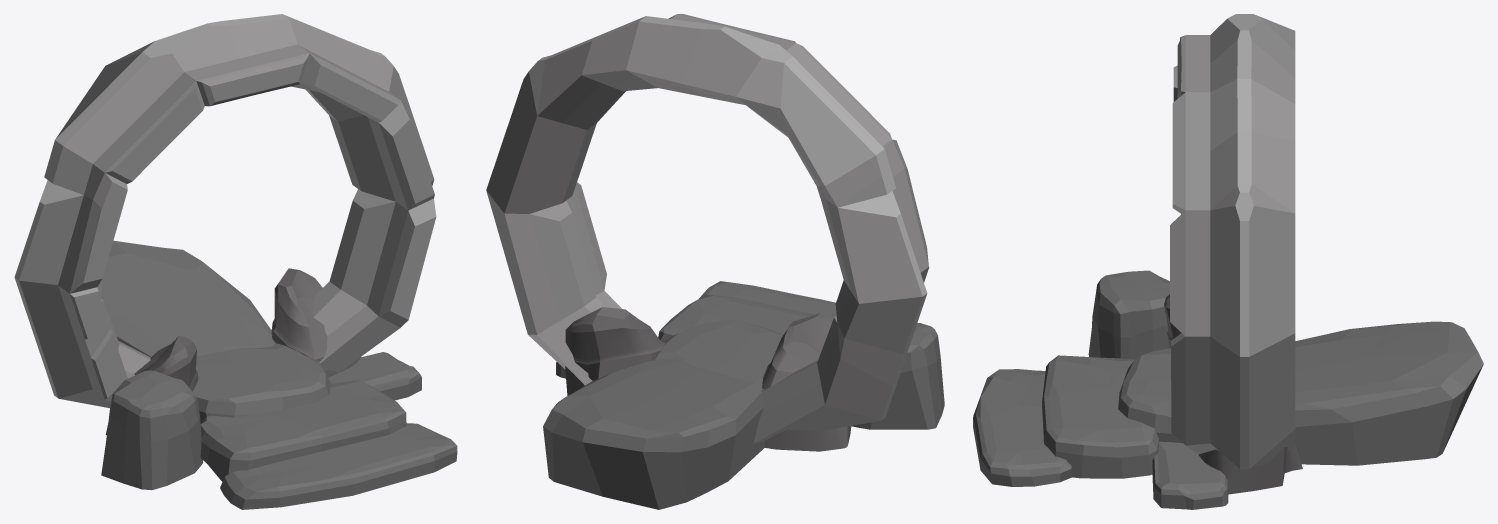
File: teleport_Gate_01.fbx
3 views of the same model, side by side, from view 1: azimuth 30°, elevation 25°; view 2: azimuth 150°, elevation 25°; view 3: azimuth 270°, elevation 25° (orthographic). The views are drawn at different scales.
Visible parts, largest first — view 1: pCube3; view 2: pCube3; view 3: pCube3.
Boxes of the visible parts, bbox=[...] form: pCube3: bbox=[14, 14, 457, 509]; pCube3: bbox=[486, 14, 944, 509]; pCube3: bbox=[973, 14, 1483, 509].
Bounding box in the file's own units: 29.45 × 25.58 × 30.31.
Materials: 1 (1 with a texture image).
